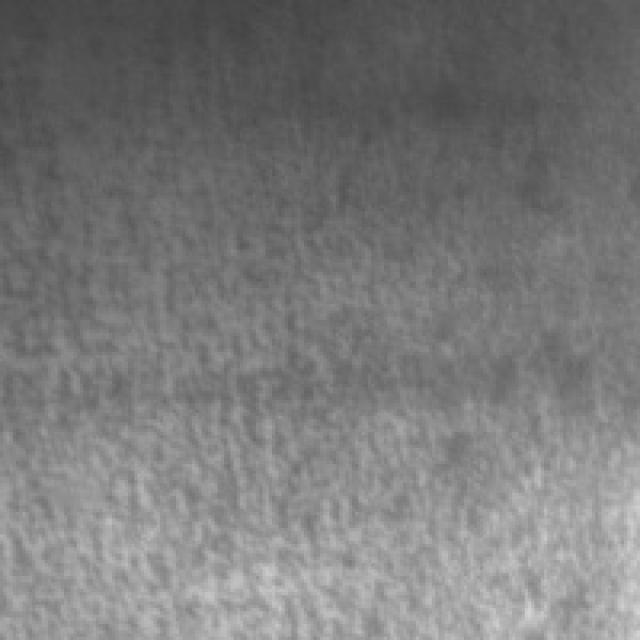pitted_surface: (10, 19, 611, 630)
